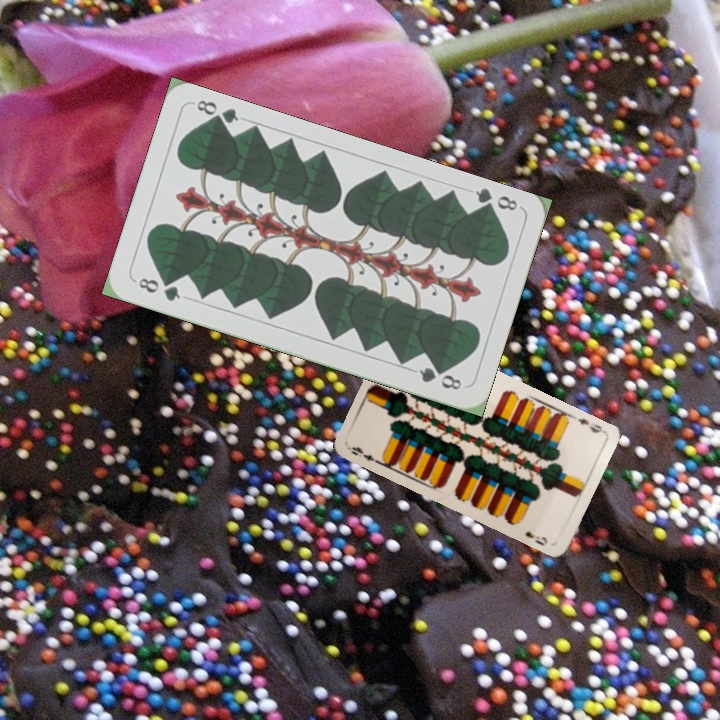E9: (345, 443, 384, 467), (573, 414, 607, 436)
G8: (471, 184, 520, 217), (131, 273, 183, 304)
